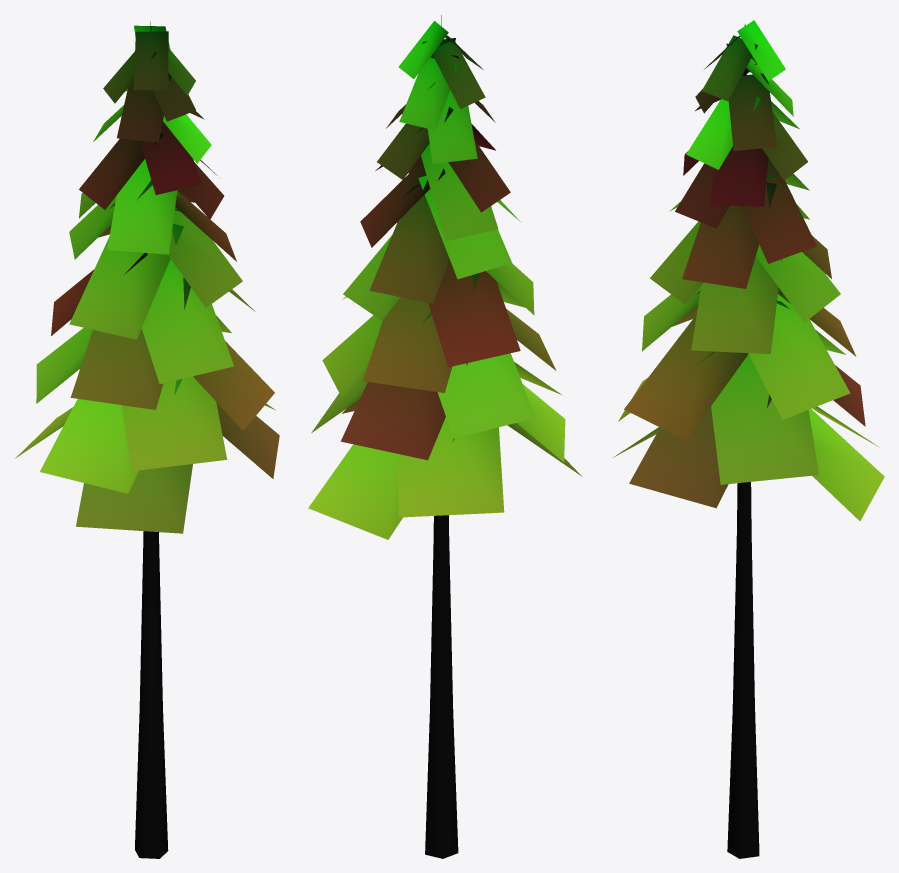
The model's file is SuperPine_1_7.fbx.
The picture shows the model from 3 angles, left to right: view 1: azimuth 30°, elevation 25°; view 2: azimuth 150°, elevation 25°; view 3: azimuth 270°, elevation 25°; orthographic projection.
Parts seen in each view (by area): view 1: SuperPine_1_7; view 2: SuperPine_1_7; view 3: SuperPine_1_7.
Boxes of the visible parts, x1,y1,x2,y2 form: SuperPine_1_7: (15,21,279,858); SuperPine_1_7: (308,15,582,858); SuperPine_1_7: (613,20,884,858).
Bounding box in the file's own units: 275 × 950 × 281.
